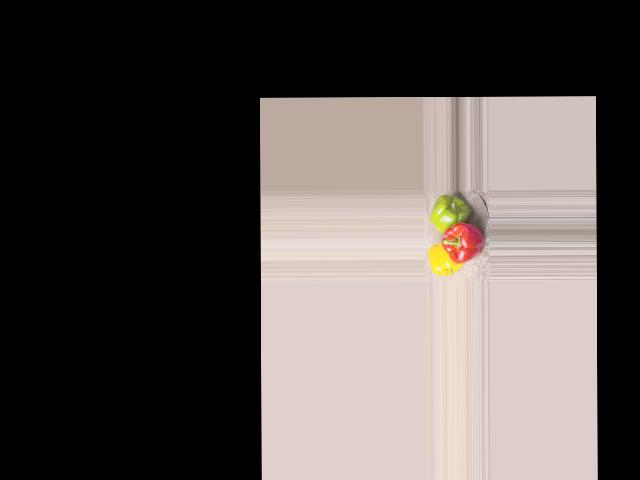bell_pepper: (427, 243, 463, 275)
